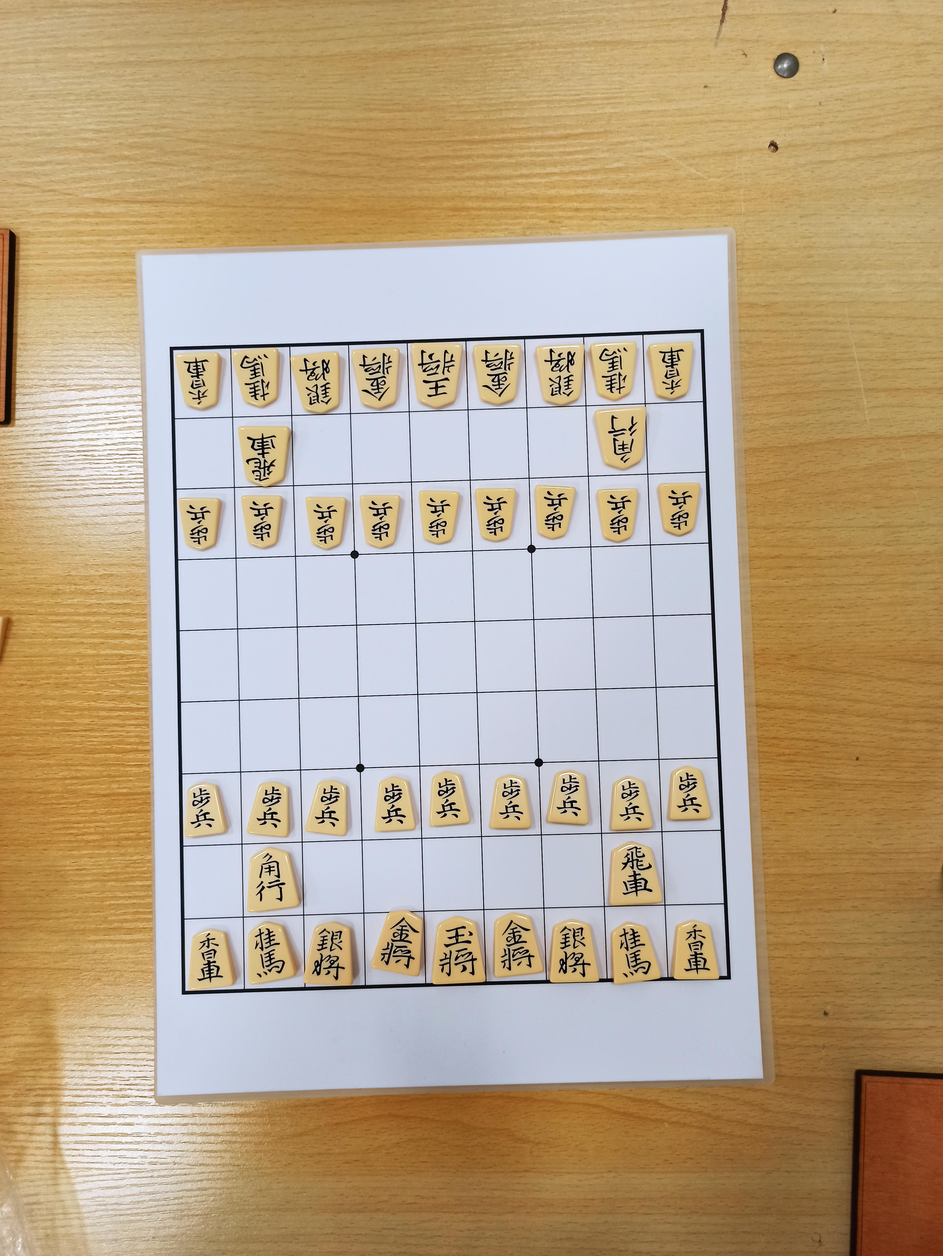board: (173, 331, 730, 994)
